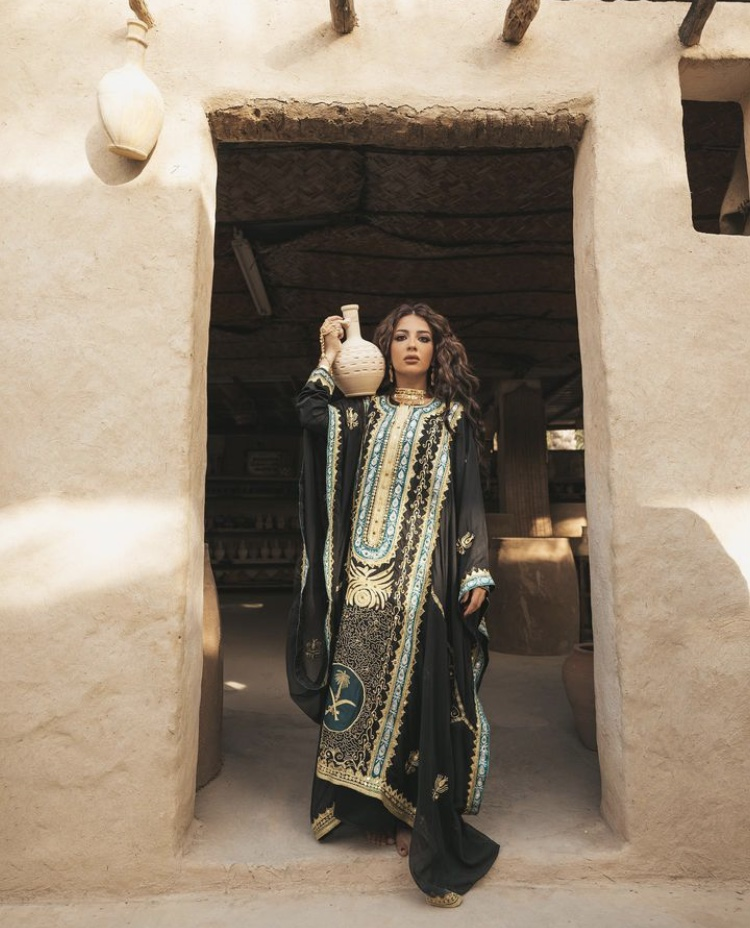Saudi_Founding_Day: (291, 298, 502, 912)
